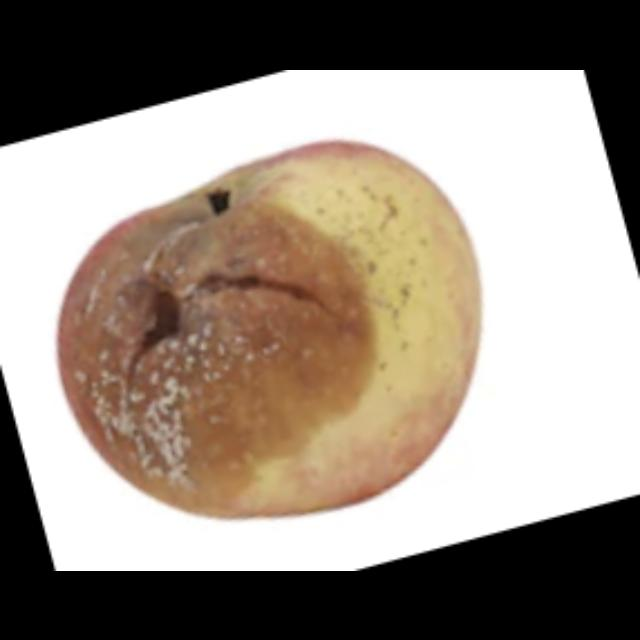Apel Tidak Segar: (51, 136, 487, 548)
